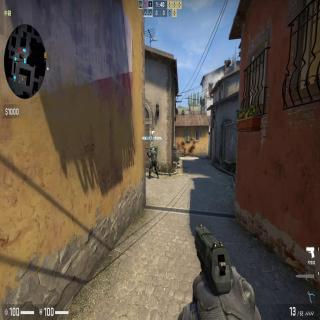CT-Body: (146, 145, 159, 179)
CT-Head: (150, 145, 154, 150)
